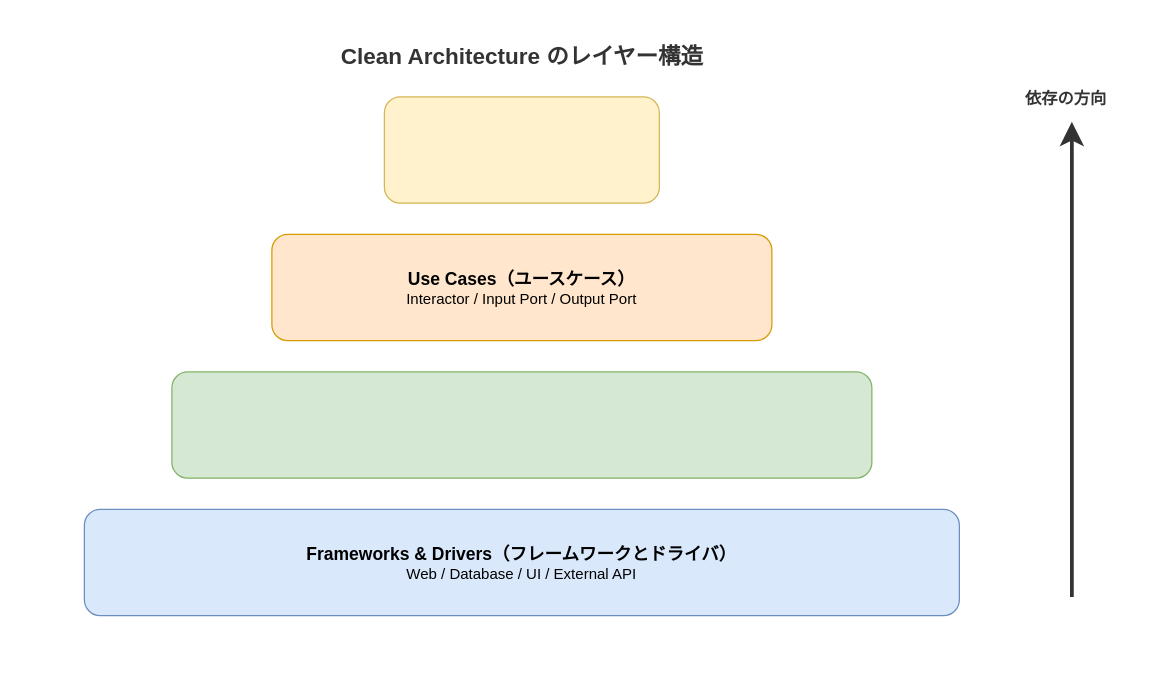
This 1168x693 diagram has some shape labels left out. Here are the shapes that lost their labels. From the top down, the centre of each, then its label:
At pixel 521 149: "Entities（エンティティ） Enterprise Business Rules".
At pixel 521 424: "Interface Adapters（インターフェースアダプタ） Controller / Presenter / Gateway / ViewModel".
